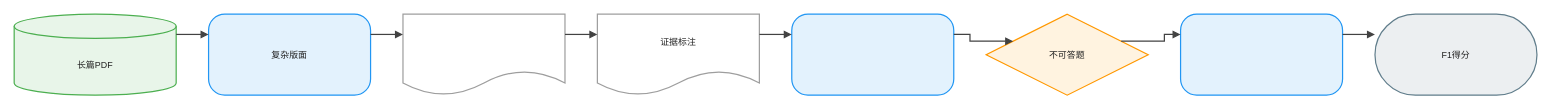
This 1552x110 diagram has some shape labels left out. The box of each missing label's shape, as (x1, y1, x2, y2) in pixels:
LVLM/OCR评测: (1180, 13, 1343, 95)
专家问题: (402, 13, 565, 95)
跨页问题: (791, 13, 954, 95)
